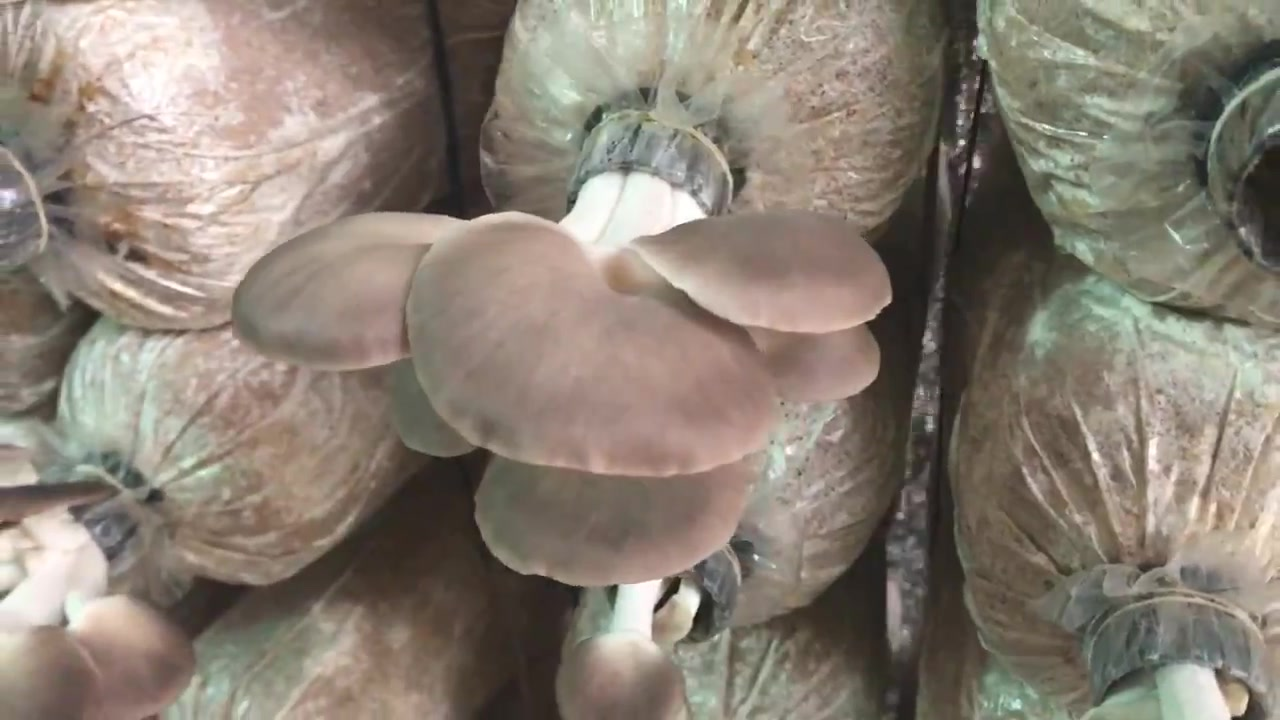nam: (234, 119, 895, 586), (1, 456, 191, 720), (552, 544, 745, 720)
